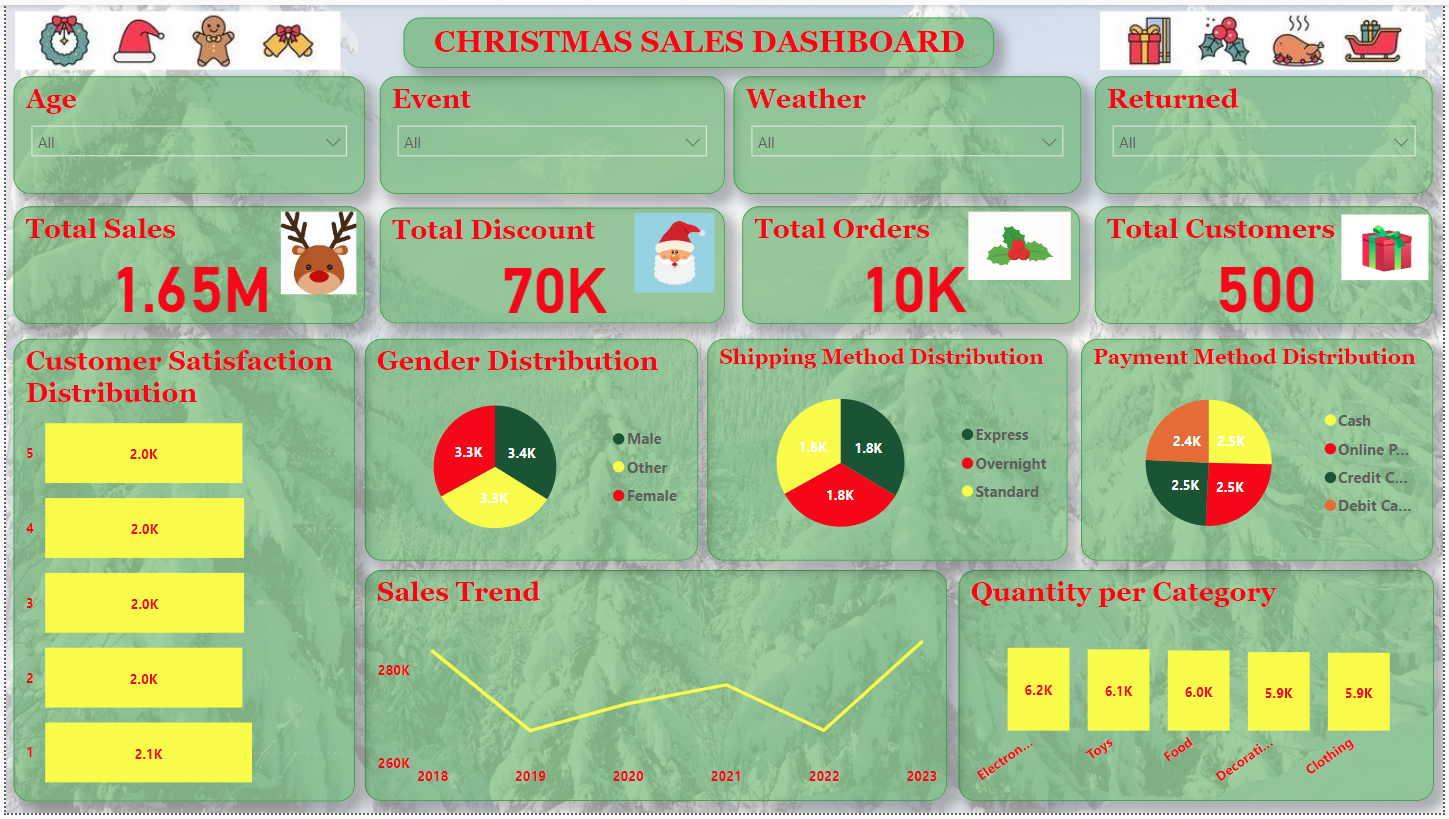

The dashboard page shown, as its layout file describes it:
{"tool":"powerbi","page":{"name":"Page 1","canvas":[1280,720],"ordinal":0},"visuals":[{"type":"textbox","title":"CHRISTMAS SALES DASHBOARD","box":[353.6,10.7,525.6,45.1],"z":0},{"type":"card","title":"Total Sales","fields":{"Values":["Sum(Onyx Data -DataDNA Dataset Chal.TotalPrice)"]},"box":[7,179.1,312.8,104.7],"z":1},{"type":"image","box":[216.3,179.1,124.4,83.7],"z":2},{"type":"card","title":"Total Discount","fields":{"Values":["Sum(Onyx Data -DataDNA Dataset Chal.DiscountAmount)"]},"box":[332.6,180.2,307,103.5],"z":3},{"type":"image","box":[541.9,180.2,105.8,81.4],"z":4},{"type":"card","title":"Total Customers","fields":{"Values":["Count(Onyx Data -DataDNA Dataset Chal.CustomerID)"]},"box":[969.8,179.1,301.2,104.7],"z":5},{"type":"card","title":"Total Orders","fields":{"Values":["Count(Onyx Data -DataDNA Dataset Chal.TransactionID)"]},"box":[655.8,179.1,301.2,104.7],"z":6},{"type":"image","box":[847.7,179.1,109.3,70.9],"z":7},{"type":"image","box":[1183.7,176.7,87.2,76.7],"z":8},{"type":"columnChart","title":"Quantity per Category","fields":{"Category":["Onyx Data -DataDNA Dataset Chal.Category"],"Y":["Sum(Onyx Data -DataDNA Dataset Chal.Quantity)"]},"box":[847.7,503.5,423.3,205.8],"z":9},{"type":"lineChart","title":"Sales Trend","fields":{"Category":["Onyx Data -DataDNA Dataset Chal.Date.Variation.Date Hierarchy.Year","Onyx Data -DataDNA Dataset Chal.Date.Variation.Date Hierarchy.Quarter","Onyx Data -DataDNA Dataset Chal.Date.Variation.Date Hierarchy.Month","Onyx Data -DataDNA Dataset Chal.Date.Variation.Date Hierarchy.Day"],"Y":["Sum(Onyx Data -DataDNA Dataset Chal.TotalPrice)"]},"box":[319.4,503,518.6,205.9],"z":10},{"type":"pieChart","title":"Gender Distribution","fields":{"Category":["Onyx Data -DataDNA Dataset Chal.Gender"],"Y":["CountNonNull(Onyx Data -DataDNA Dataset Chal.Gender)"]},"box":[319.8,297.7,296.5,197.7],"z":11},{"type":"pieChart","title":"Shipping Method Distribution","fields":{"Category":["Onyx Data -DataDNA Dataset Chal.ShippingMethod"],"Y":["CountNonNull(Onyx Data -DataDNA Dataset Chal.ShippingMethod)"]},"box":[624.4,297.7,320.9,197.7],"z":12},{"type":"pieChart","title":"Payment Method Distribution","fields":{"Category":["Onyx Data -DataDNA Dataset Chal.PaymentType"],"Y":["CountNonNull(Onyx Data -DataDNA Dataset Chal.PaymentType)"]},"box":[957,297.7,314,197.7],"z":13},{"type":"barChart","title":"Customer Satisfaction Distribution","fields":{"Y":["CountNonNull(Onyx Data -DataDNA Dataset Chal.CustomerSatisfaction)"],"Category":["Onyx Data -DataDNA Dataset Chal.CustomerSatisfaction"]},"box":[6.7,297.1,303.8,411.7],"z":14},{"type":"slicer","title":"Age","fields":{"Values":["Onyx Data -DataDNA Dataset Chal.Age (groups)"]},"box":[7,64,312.8,104.7],"z":15},{"type":"slicer","title":"Event","fields":{"Values":["Onyx Data -DataDNA Dataset Chal.Event"]},"box":[332.6,64,307,104.7],"z":16},{"type":"slicer","title":"Weather","fields":{"Values":["Onyx Data -DataDNA Dataset Chal.Weather"]},"box":[647.7,64,309.3,104.7],"z":17},{"type":"slicer","title":"Returned","fields":{"Values":["Onyx Data -DataDNA Dataset Chal.ReturnFlag"]},"box":[969.8,64,301.2,104.7],"z":18},{"type":"image","box":[3.3,0,299.4,63.4],"z":19},{"type":"image","box":[969.3,0,299.4,63.4],"z":20}]}

Visuals, with their boxes in screenshot pixels (x1, y1, x2, y2), scaled from the page's 1280x720 canvas onto the 1449x819 screenshot:
"CHRISTMAS SALES DASHBOARD" textbox: {"left": 400, "top": 12, "right": 995, "bottom": 63}
"Total Sales" card: {"left": 8, "top": 204, "right": 362, "bottom": 323}
image: {"left": 245, "top": 204, "right": 386, "bottom": 299}
"Total Discount" card: {"left": 377, "top": 205, "right": 724, "bottom": 323}
image: {"left": 613, "top": 205, "right": 733, "bottom": 298}
"Total Customers" card: {"left": 1098, "top": 204, "right": 1439, "bottom": 323}
"Total Orders" card: {"left": 742, "top": 204, "right": 1083, "bottom": 323}
image: {"left": 960, "top": 204, "right": 1083, "bottom": 284}
image: {"left": 1340, "top": 201, "right": 1439, "bottom": 288}
"Quantity per Category" columnChart: {"left": 960, "top": 573, "right": 1439, "bottom": 807}
"Sales Trend" lineChart: {"left": 362, "top": 572, "right": 949, "bottom": 806}
"Gender Distribution" pieChart: {"left": 362, "top": 339, "right": 698, "bottom": 564}
"Shipping Method Distribution" pieChart: {"left": 707, "top": 339, "right": 1070, "bottom": 564}
"Payment Method Distribution" pieChart: {"left": 1083, "top": 339, "right": 1439, "bottom": 564}
"Customer Satisfaction Distribution" barChart: {"left": 8, "top": 338, "right": 351, "bottom": 806}
"Age" slicer: {"left": 8, "top": 73, "right": 362, "bottom": 192}
"Event" slicer: {"left": 377, "top": 73, "right": 724, "bottom": 192}
"Weather" slicer: {"left": 733, "top": 73, "right": 1083, "bottom": 192}
"Returned" slicer: {"left": 1098, "top": 73, "right": 1439, "bottom": 192}
image: {"left": 4, "top": 0, "right": 343, "bottom": 72}
image: {"left": 1097, "top": 0, "right": 1436, "bottom": 72}
